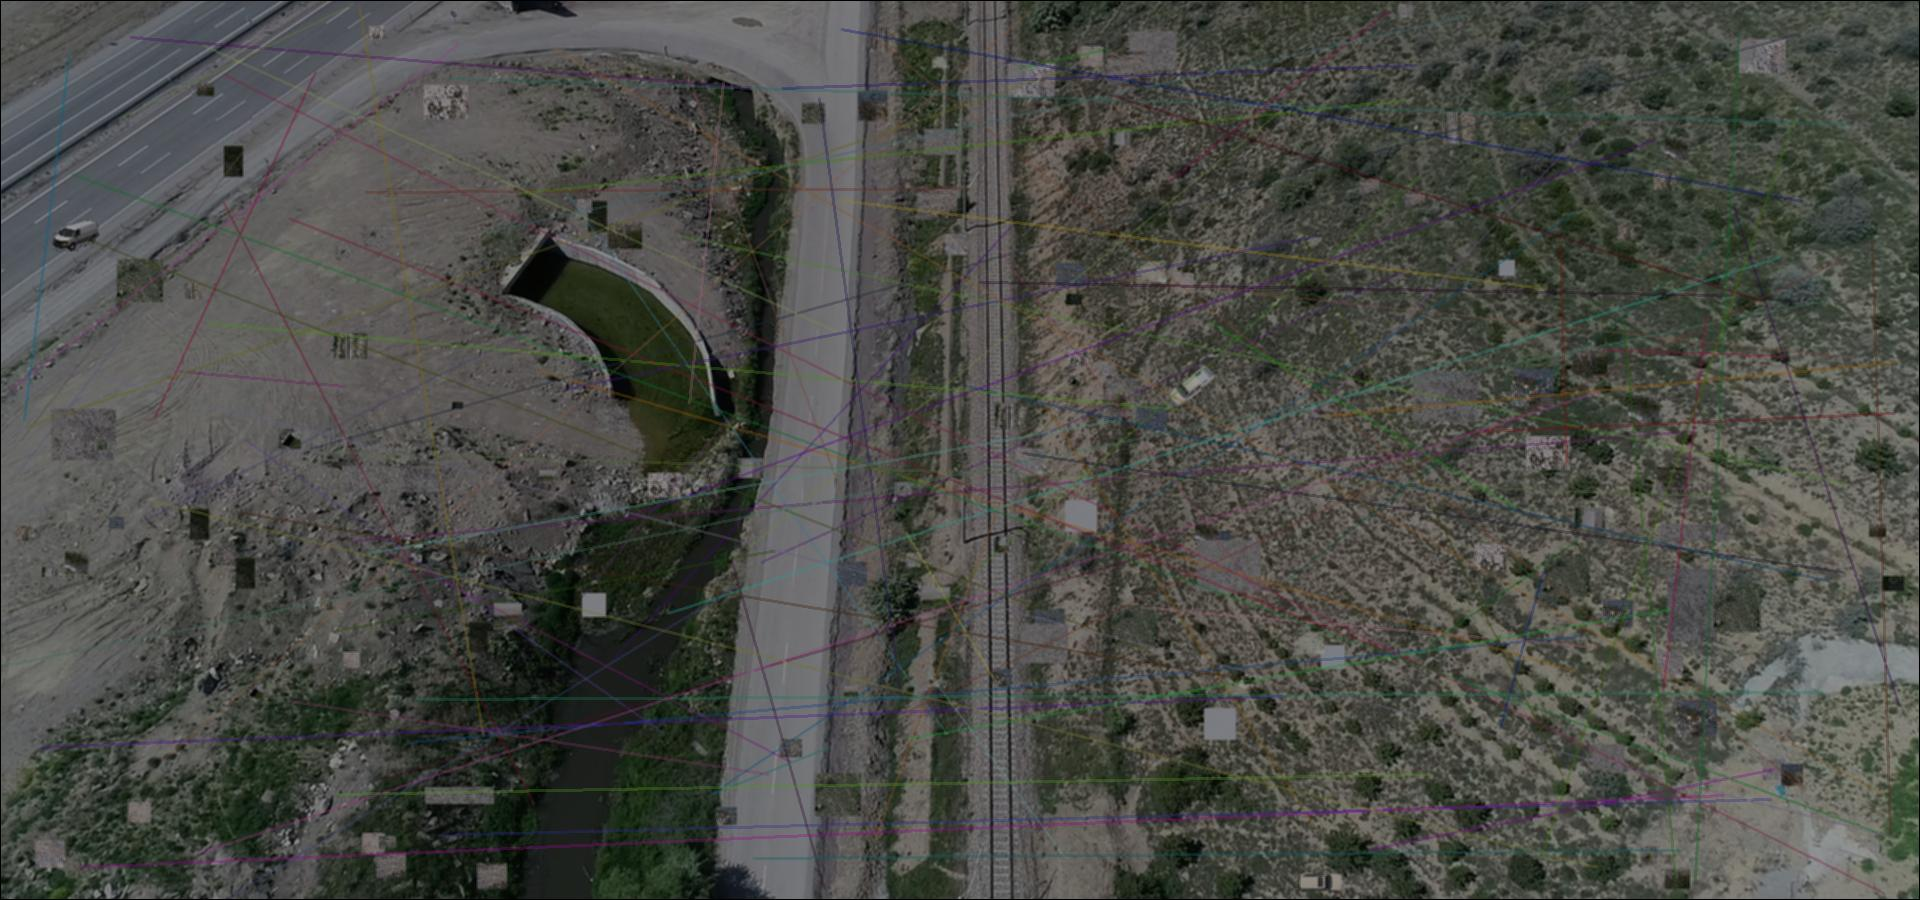arac: (1169, 366, 1217, 407), (53, 220, 99, 252), (1297, 871, 1344, 894)
